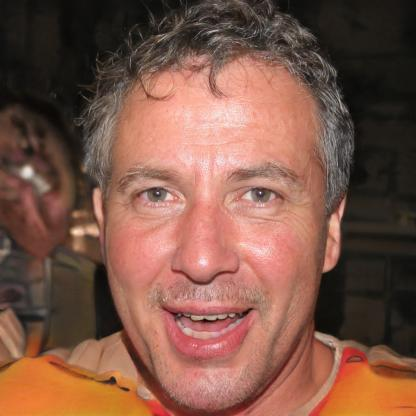eyeee: (226, 180, 288, 208), (125, 182, 189, 208)
mouthhz: (160, 300, 258, 365)
nosebb: (170, 196, 241, 286)
